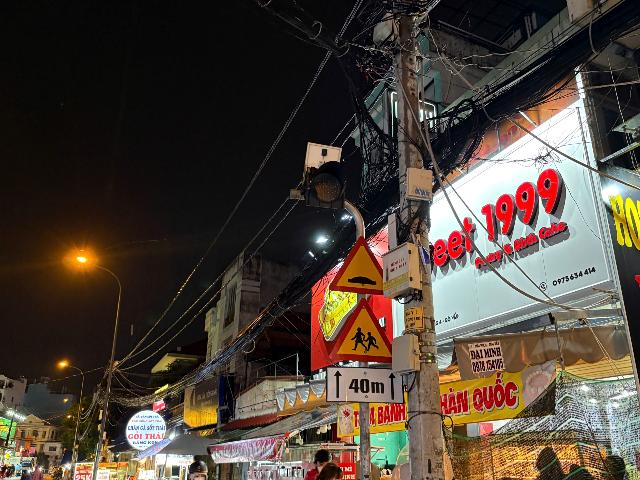duong-co-go-giam-toc: (329, 236, 384, 296)
tre-em-qua-duong: (330, 298, 392, 362)
